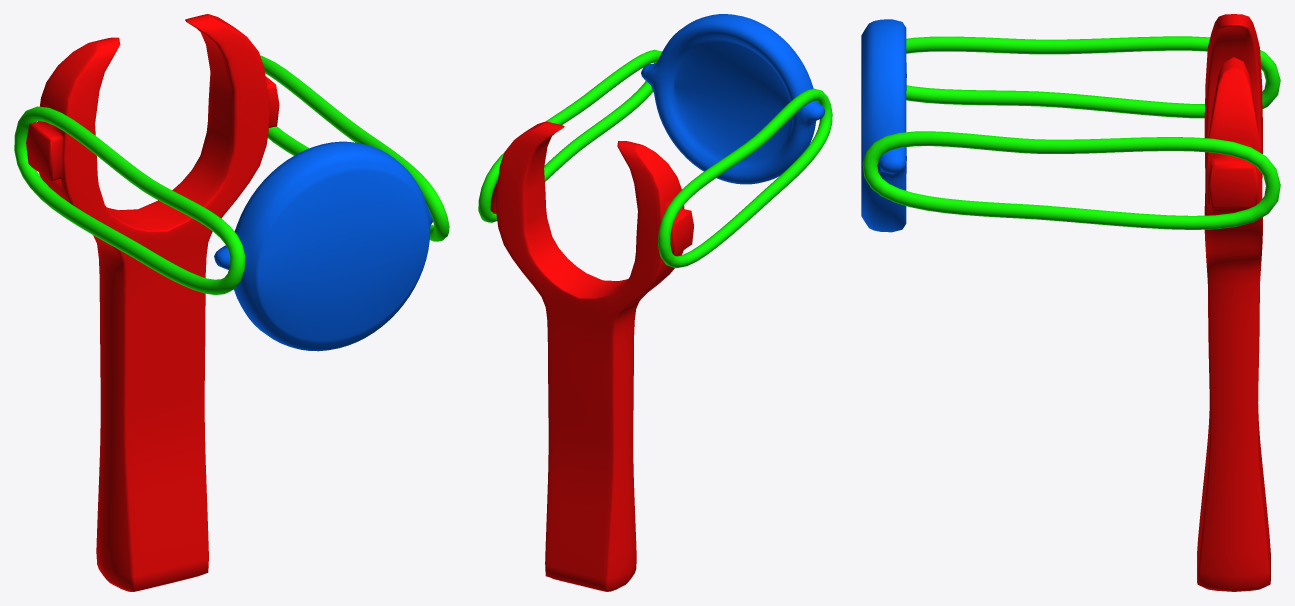
The model's file is SlingshotSeparated.fbx.
3 views of the same model, side by side, from view 1: azimuth 30°, elevation 25°; view 2: azimuth 150°, elevation 25°; view 3: azimuth 270°, elevation 25° (orthographic). The views are drawn at different scales.
Parts seen in each view (by area): view 1: SlingShot, Holder, BandL, BandR; view 2: SlingShot, Holder, BandL, BandR; view 3: SlingShot, BandR, BandL, Holder.
Boxes of the visible parts, x1=… form: SlingShot: x1=26, y1=14, x2=279, y2=591; Holder: x1=214, y1=141, x2=433, y2=351; BandL: x1=14, y1=106, x2=245, y2=294; BandR: x1=260, y1=55, x2=449, y2=241; SlingShot: x1=490, y1=121, x2=693, y2=591; Holder: x1=641, y1=14, x2=825, y2=184; BandL: x1=658, y1=88, x2=832, y2=268; BandR: x1=478, y1=49, x2=661, y2=222; SlingShot: x1=1197, y1=14, x2=1270, y2=591; BandR: x1=862, y1=131, x2=1280, y2=229; BandL: x1=906, y1=36, x2=1280, y2=118; Holder: x1=861, y1=19, x2=906, y2=232.
Size of the model in its own units: 104 by 219 by 153.
